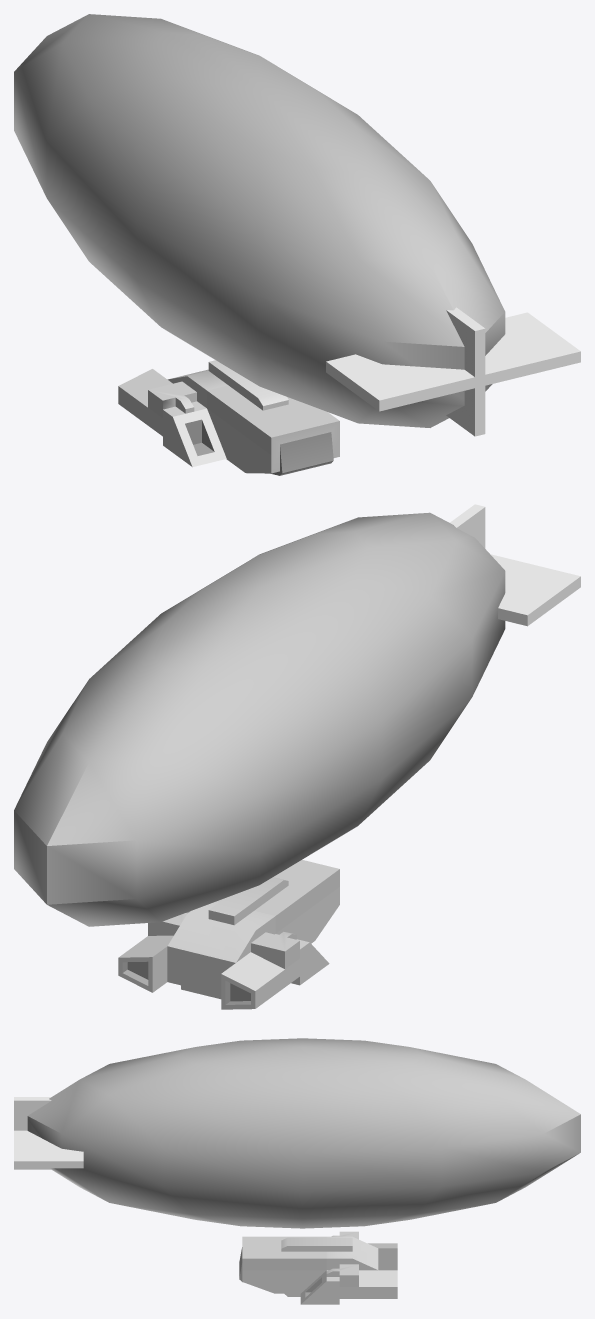
The model's file is scaffold_rig.glb.
3 renders of one model, top to bottom at view 1: azimuth 30°, elevation 25°; view 2: azimuth 150°, elevation 25°; view 3: azimuth 270°, elevation 25°, orthographic. The views are drawn at different scales.
Visible parts, largest first — view 1: Body; view 2: Body; view 3: Body.
Boxes of the visible parts, x1=… form: Body: x1=14, y1=14, x2=580, y2=475; Body: x1=14, y1=504, x2=580, y2=1009; Body: x1=14, y1=1038, x2=580, y2=1304.
Bounding box in the file's own units: 5.85 × 8.4 × 17.87.
2 materials, 1 textured.
